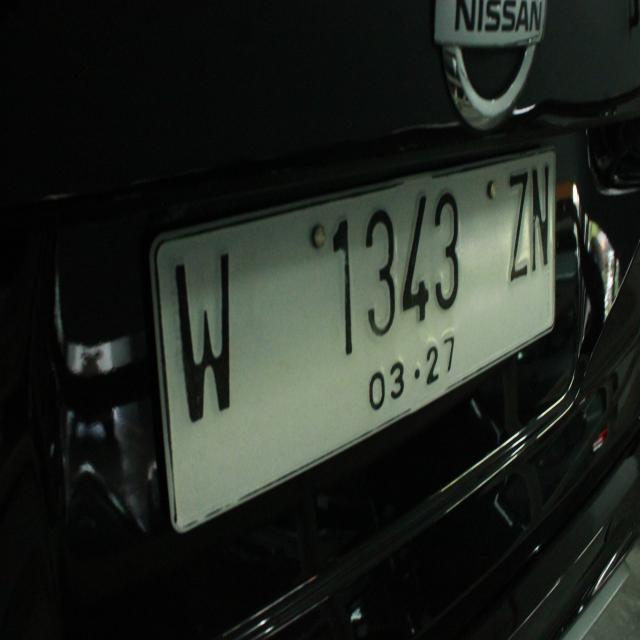1: (324, 212, 366, 361)
3: (358, 202, 400, 340), (427, 182, 462, 314)
4: (395, 181, 431, 329)
N: (522, 154, 556, 281)
W: (160, 246, 243, 422)
Z: (498, 162, 532, 288)
